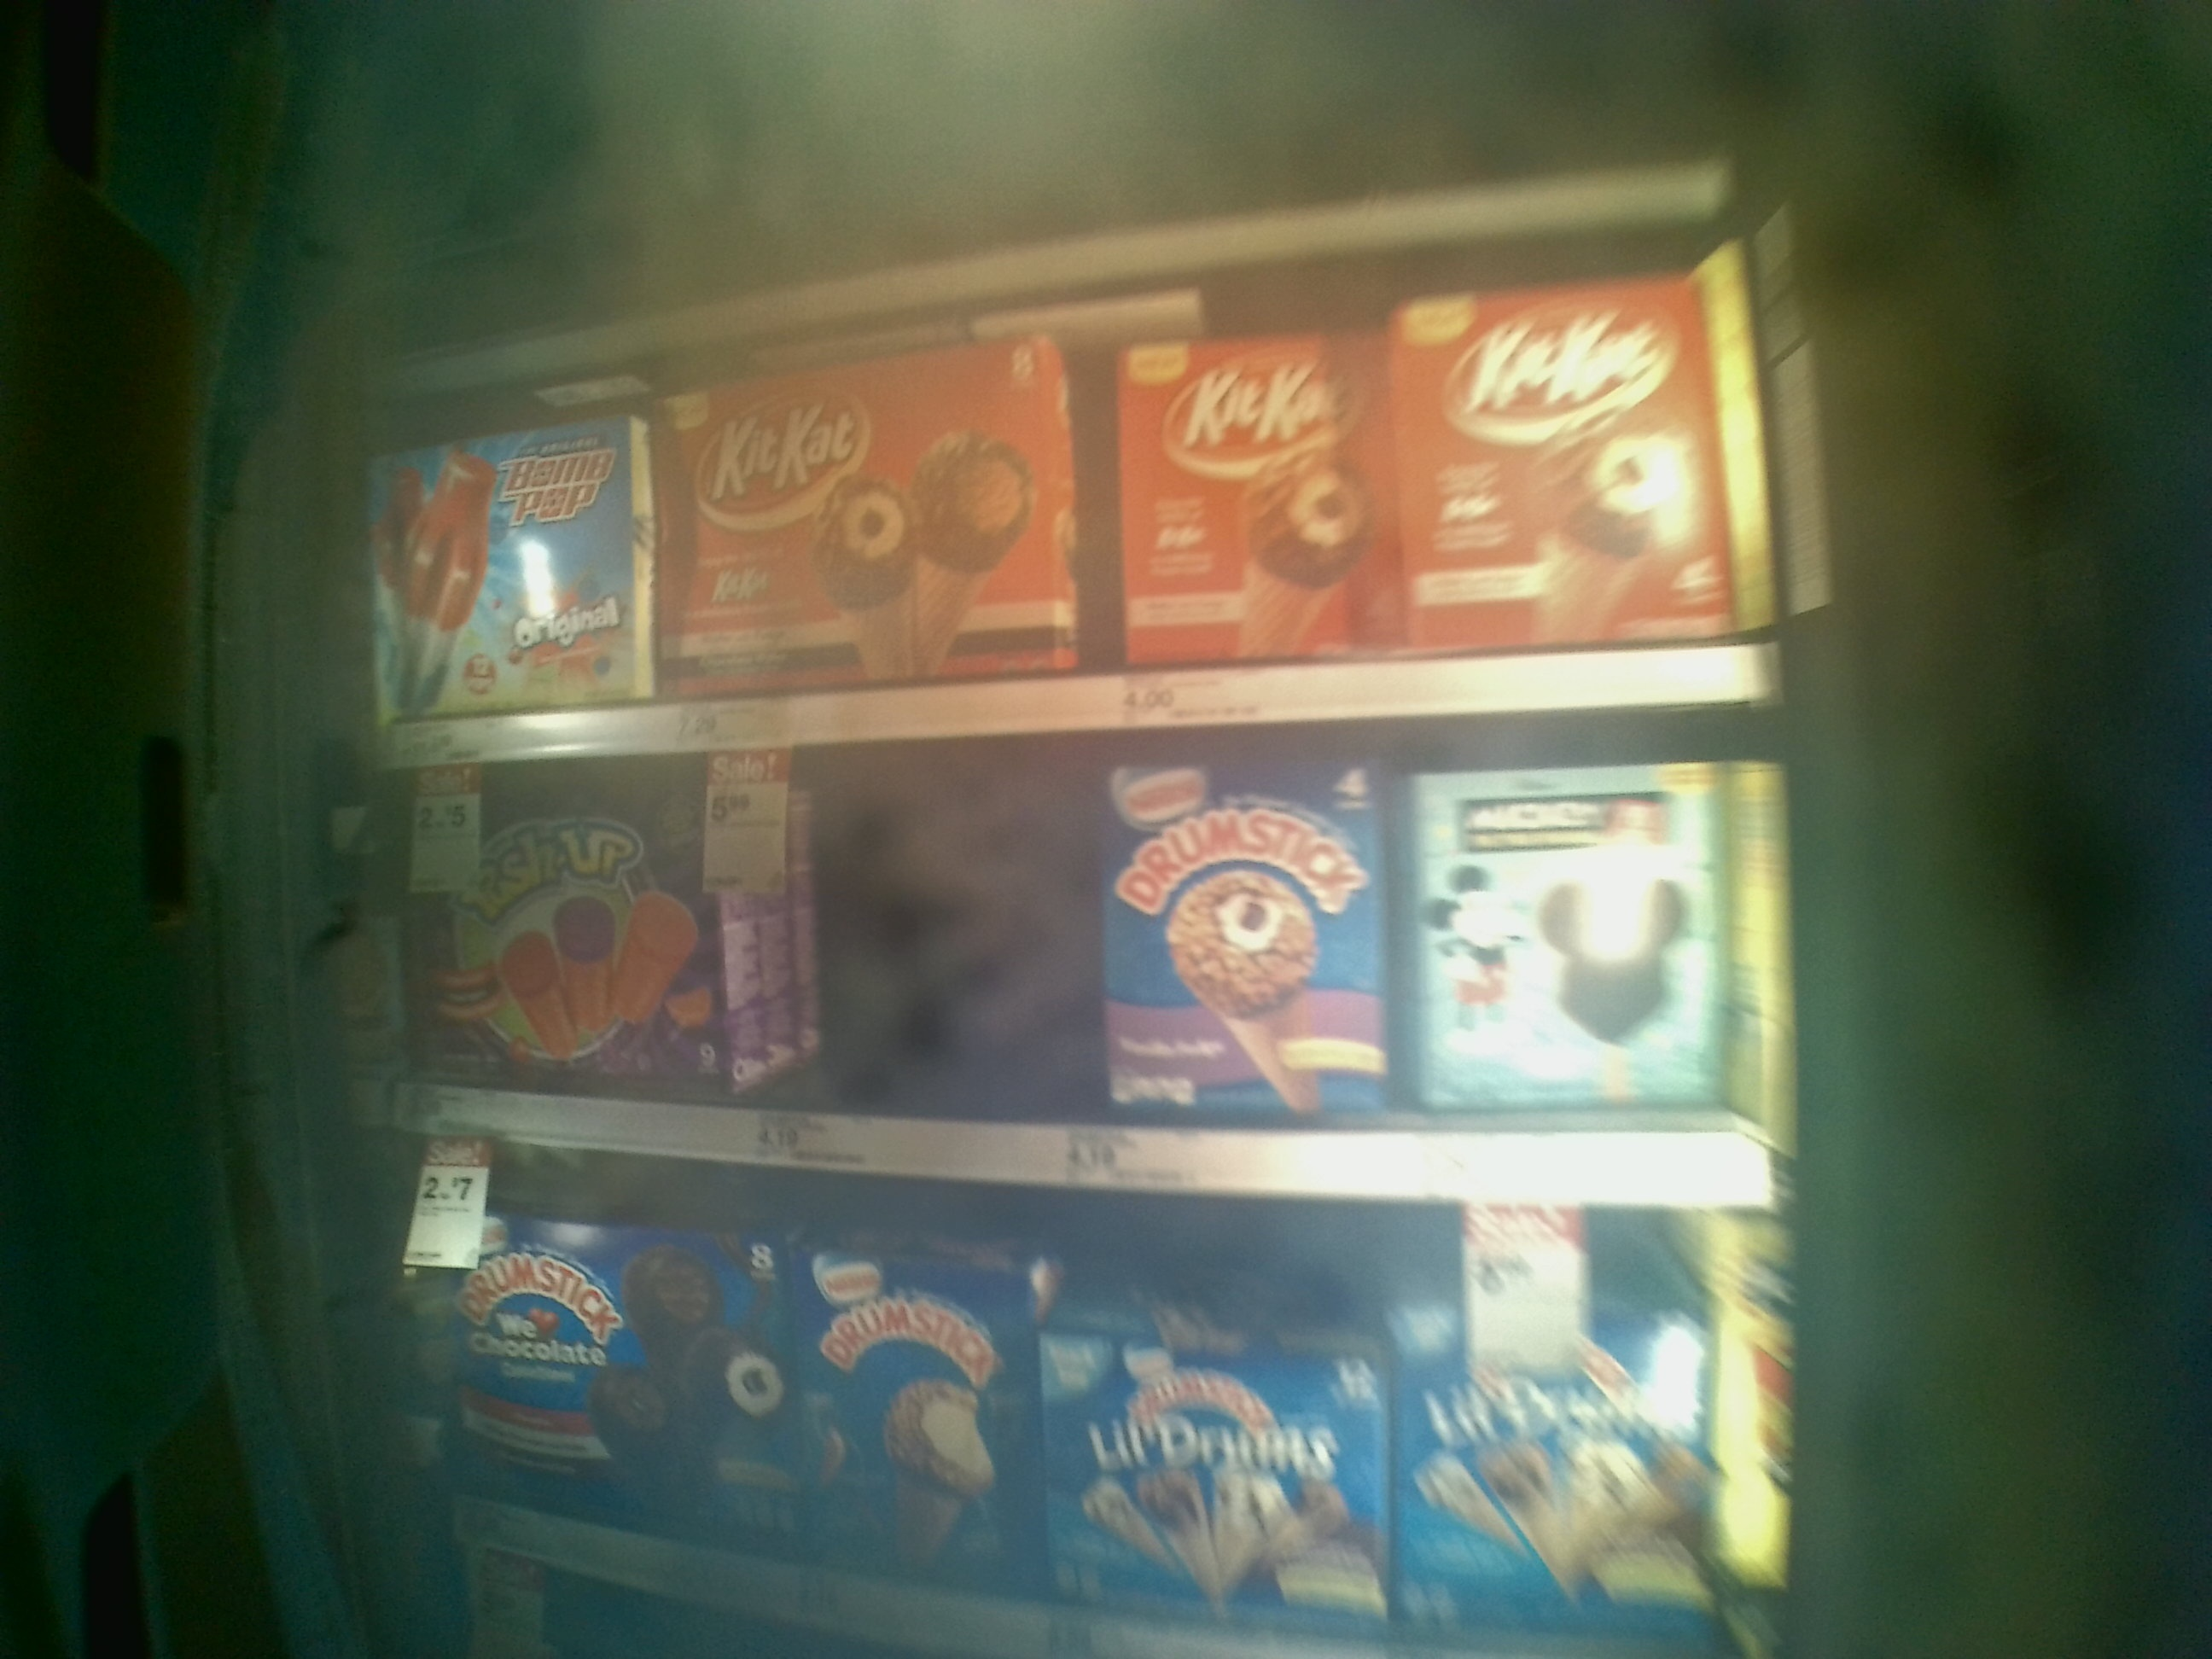shelf: (324, 254, 1766, 753), (394, 704, 1785, 1211)
